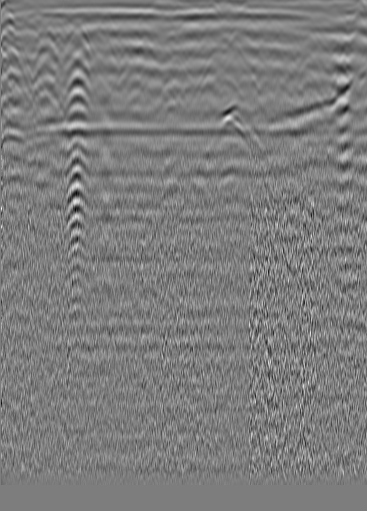가스: (201, 102, 261, 157)
상수: (331, 21, 351, 41)
오수: (21, 28, 64, 63)
우수: (160, 29, 180, 49)
